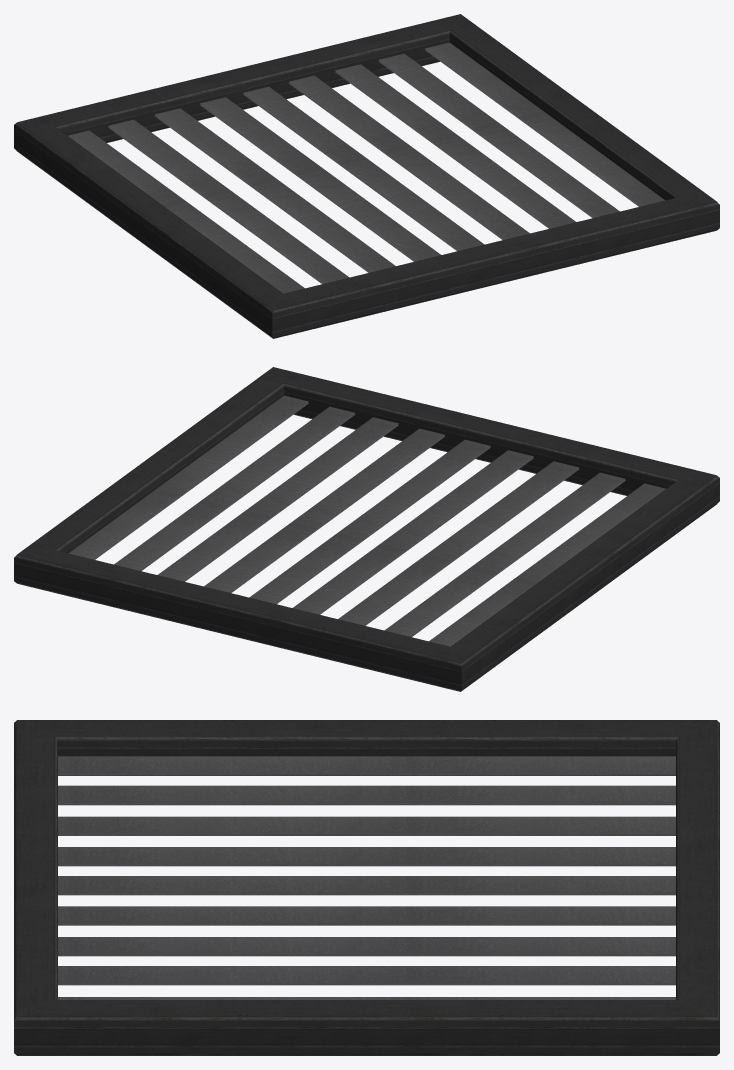
File: p6_blackout_floor_grating_lod0.glb
The picture shows the model from 3 angles, top to bottom: view 1: azimuth 30°, elevation 25°; view 2: azimuth 150°, elevation 25°; view 3: azimuth 270°, elevation 25°; orthographic projection. The views are drawn at different scales.
Visible parts, largest first — view 1: surf0; view 2: surf0; view 3: surf0.
Part boxes in pixels (bbox=[...]): surf0: bbox=[14, 14, 719, 338]; surf0: bbox=[14, 367, 719, 691]; surf0: bbox=[14, 720, 719, 1055].
Size of the model in its own units: 64 by 4 by 64.
